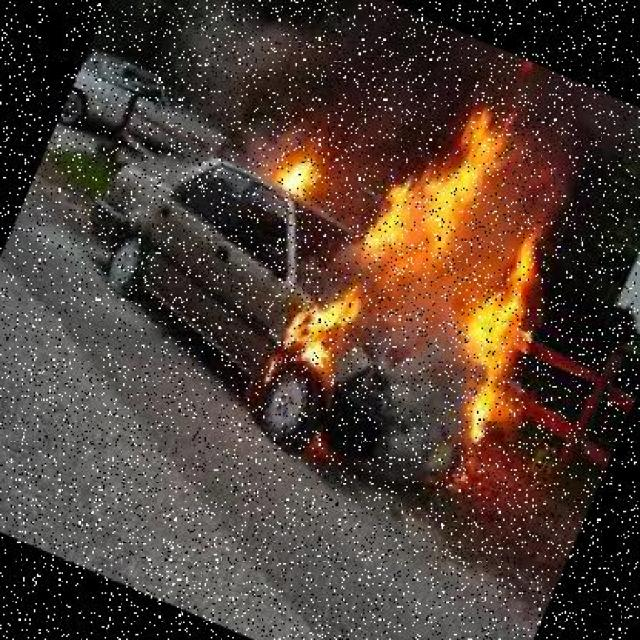fire: (298, 69, 632, 449), (248, 128, 328, 206)
